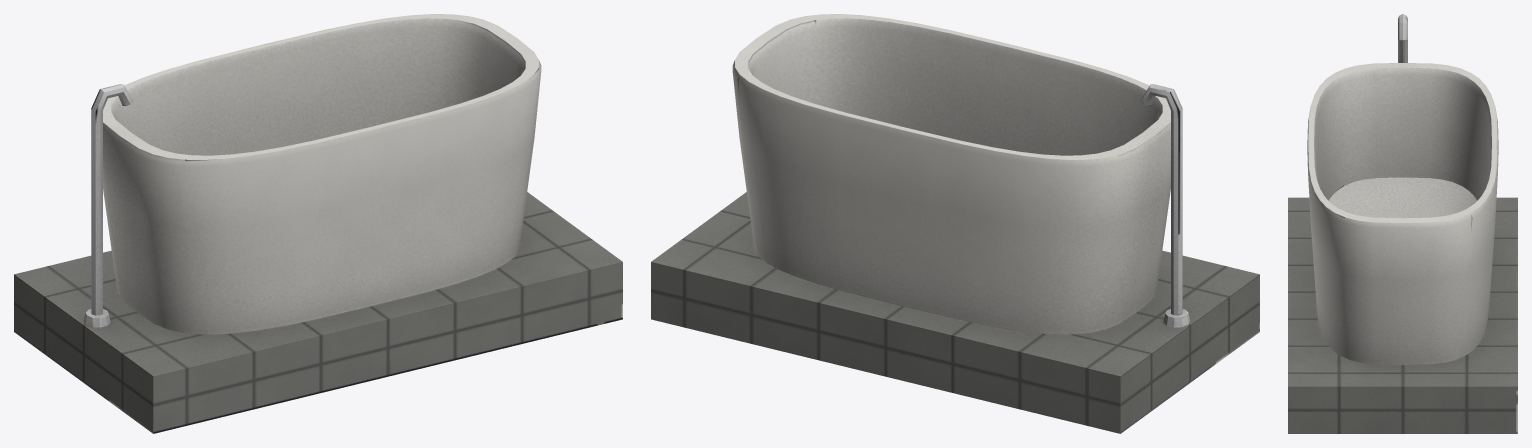
File: H_Bathtub.fbx
3 views of the same model, side by side, from view 1: azimuth 30°, elevation 25°; view 2: azimuth 150°, elevation 25°; view 3: azimuth 270°, elevation 25° (orthographic). The views are drawn at different scales.
Parts seen in each view (by area): view 1: H_Bathtub; view 2: H_Bathtub; view 3: H_Bathtub.
Part boxes in pixels (x1,y1,x2,y2): H_Bathtub: [14, 14, 622, 433]; H_Bathtub: [651, 14, 1259, 433]; H_Bathtub: [1288, 14, 1517, 433].
Size of the model in its own units: 700 by 412 by 360.
1 material, 1 textured.
